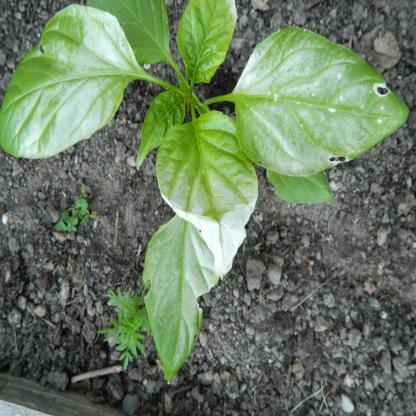Tomato leaf: (235, 20, 410, 176), (0, 10, 135, 159), (152, 105, 257, 271)
